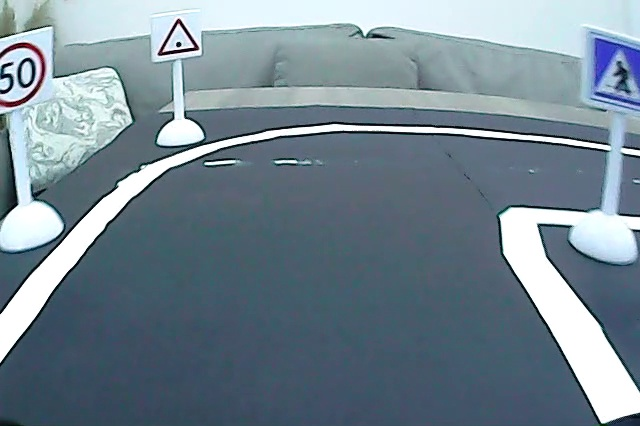green light: (154, 14, 203, 57)
pedestrian crossing: (587, 32, 640, 103)
speed limit 50: (1, 38, 50, 113)
